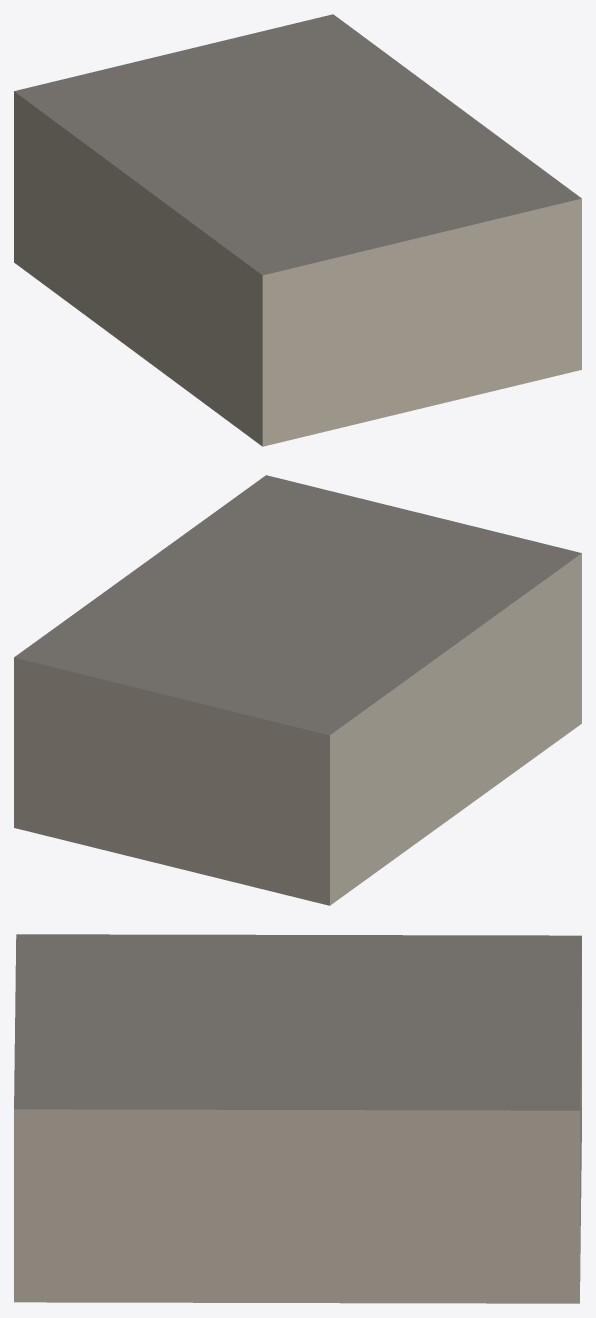
3 renders of one model, top to bottom at view 1: azimuth 30°, elevation 25°; view 2: azimuth 150°, elevation 25°; view 3: azimuth 270°, elevation 25°, orthographic. The views are drawn at different scales.
Visible parts, largest first — view 1: HP-w858839020; view 2: HP-w858839020; view 3: HP-w858839020.
Part boxes in pixels (<box>): HP-w858839020: <box>14,14,581,446</box>; HP-w858839020: <box>14,475,581,905</box>; HP-w858839020: <box>14,934,581,1303</box>.
Size of the model in its own units: 35.26 by 18 by 48.
